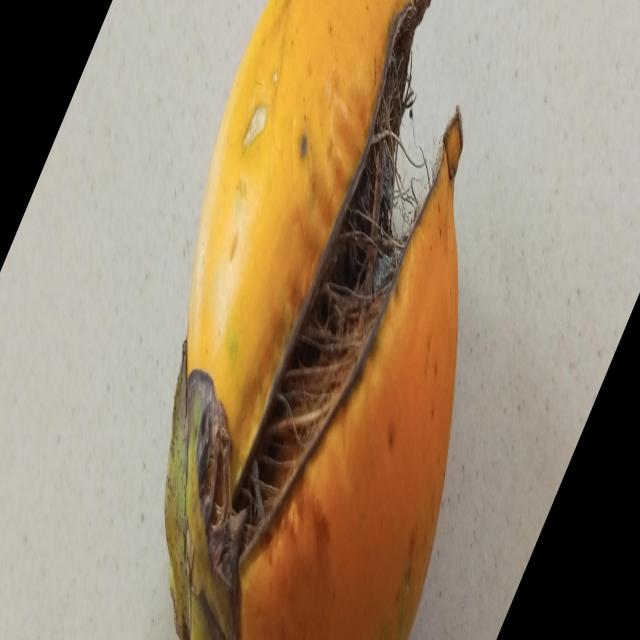damaged: (164, 0, 462, 640)
